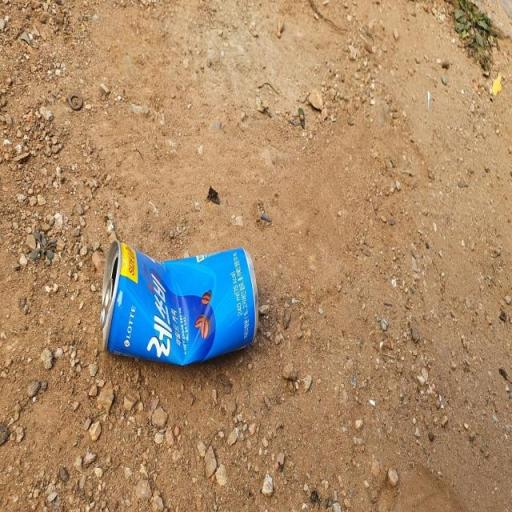metal: (91, 220, 268, 386)
